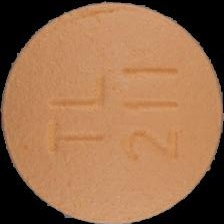43063-460: (0, 0, 224, 224)
